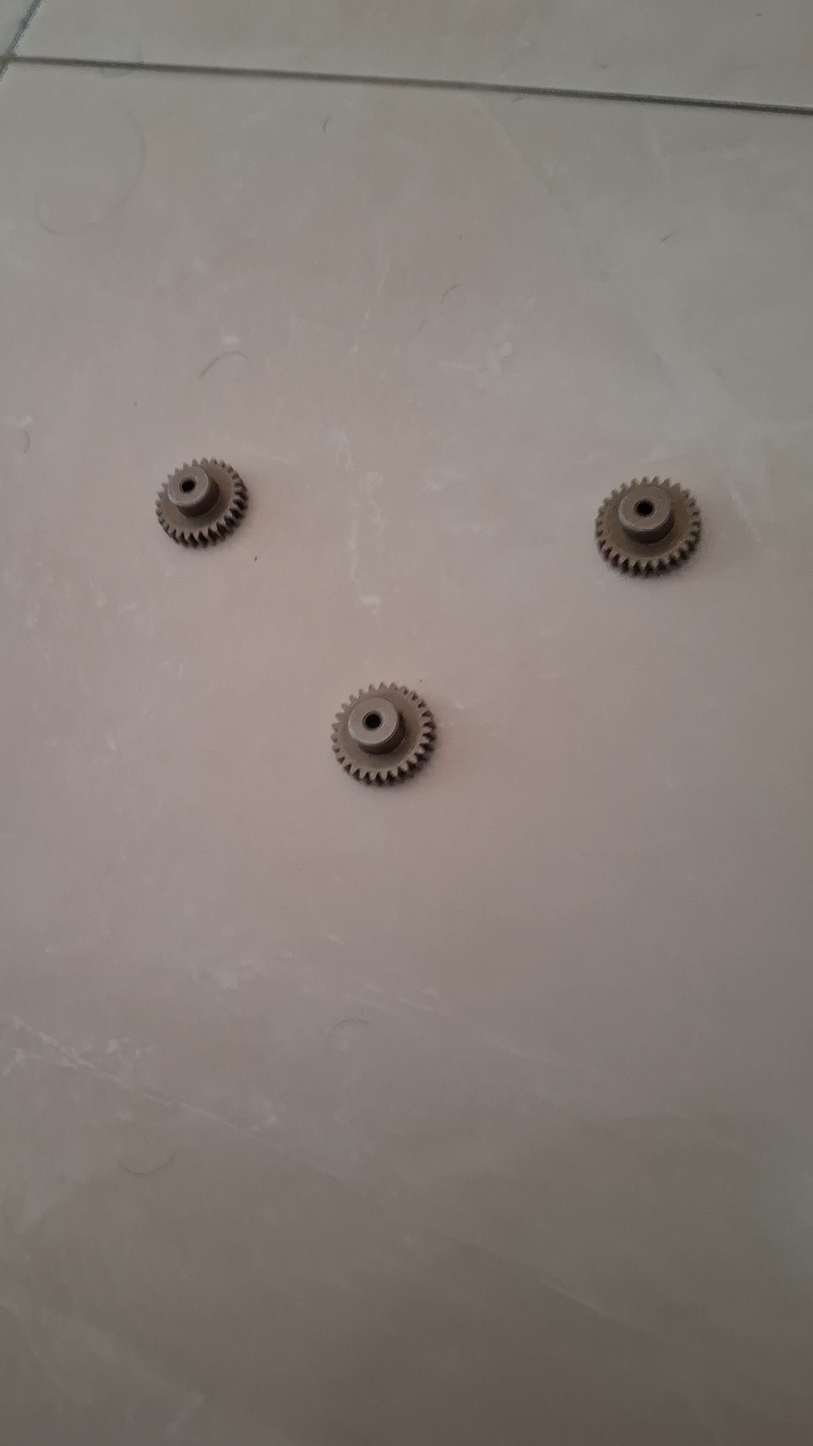spur gear: (332, 683, 435, 784), (595, 477, 700, 574), (156, 459, 248, 547)
